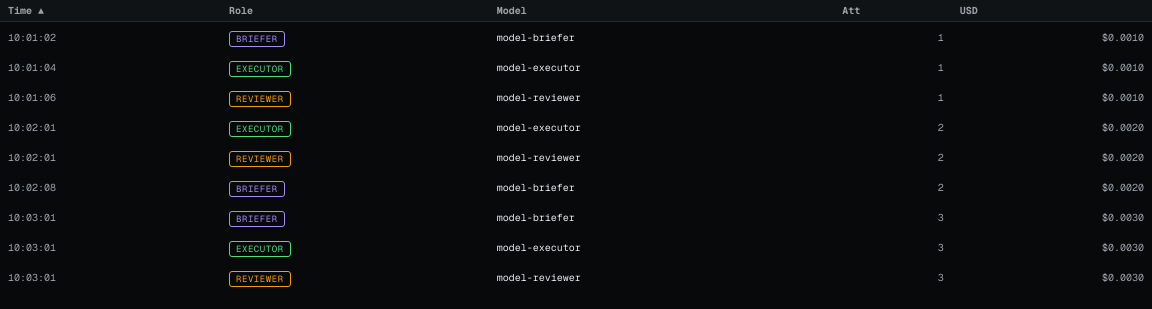
Test: PromptsTab › fetches prompt body when a row is clicked and reflects hash
Click the row with test id "spawn-row-spawn-P1-a1-briefer": point(576, 37) [0,22,1151,52]
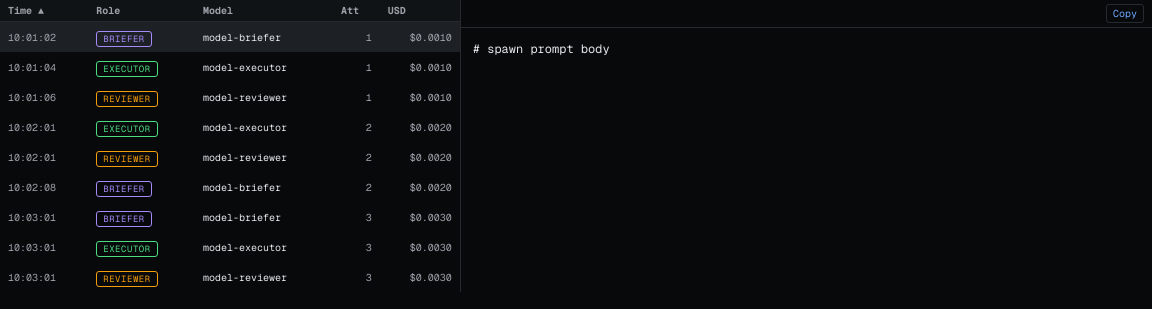
expect the element with test id "prompt-body-content" reads "# spawn prompt body": met, box [473,41,610,57]
